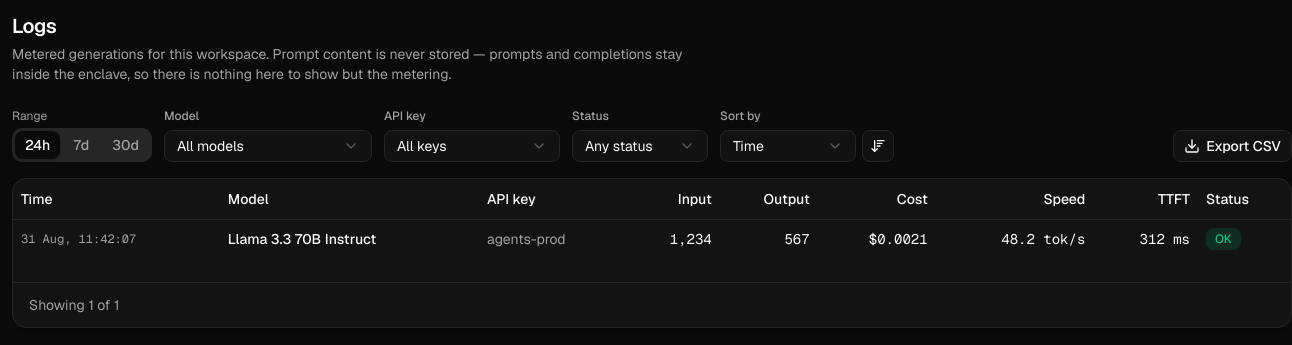
Test: LogsScreen › re-queries when the range changes
Expected: the text "Llama 3.3 70B Instruct" is shown, [220,219,479,258]
Click the button named "Past 30 days". click: click(126, 145)
box: [102,131,149,159]
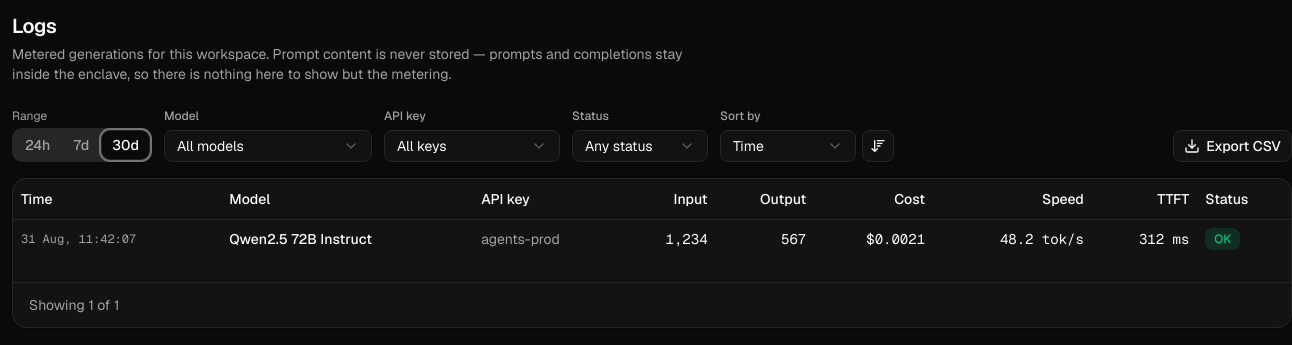
Expected: the text "Qwen2.5 72B Instruct" is shown, [221,219,473,258]
Expected: the text "Llama 3.3 70B Instruct" is gone
